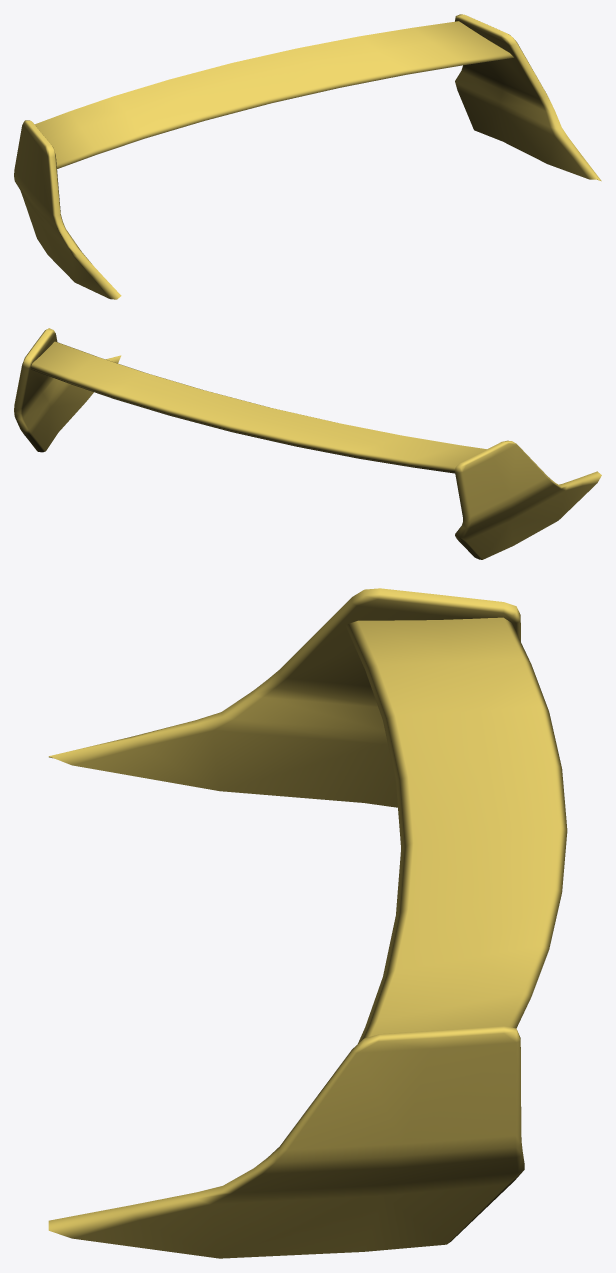
File: Supra_Spoiler_02_Duco.fbx
3 renders of one model, top to bottom at view 1: azimuth 30°, elevation 25°; view 2: azimuth 150°, elevation 25°; view 3: azimuth 270°, elevation 25°, orthographic. The views are drawn at different scales.
Visible parts, largest first — view 1: Supra_Spoiler_02_Duco; view 2: Supra_Spoiler_02_Duco; view 3: Supra_Spoiler_02_Duco.
Boxes of the visible parts, <box> form: Supra_Spoiler_02_Duco: <box>14,14,601,299</box>; Supra_Spoiler_02_Duco: <box>14,328,601,559</box>; Supra_Spoiler_02_Duco: <box>48,588,567,1258</box>.
Bounding box in the file's own units: 132 × 27.24 × 59.73.
